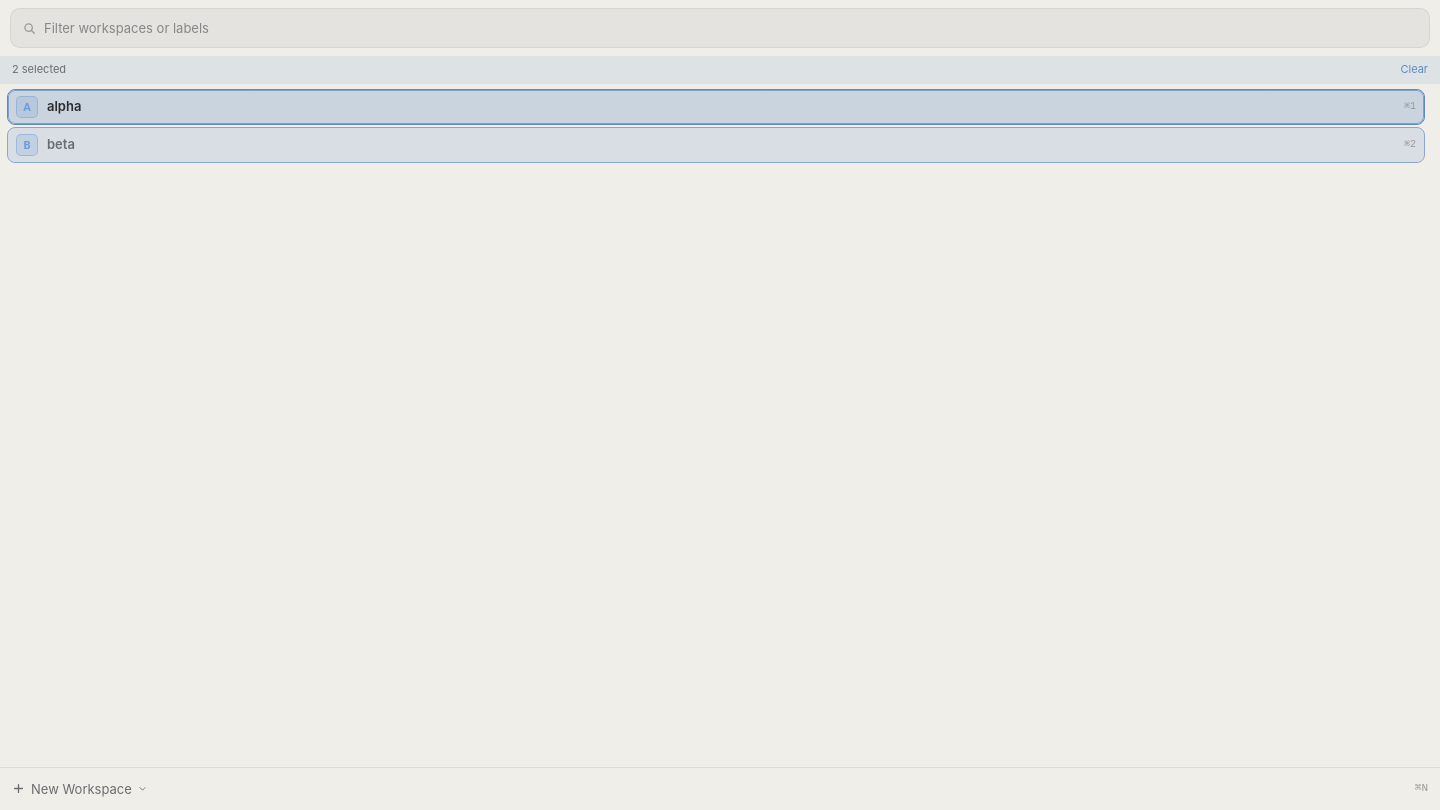
Scenario: bulk context menu › captions an empty bulk Labels submenu "No labels", never "preset"
Right-click the option with test id "workspace-row" showing "A alpha ⌘1" at point(64, 106), box [8,90,1424,124]
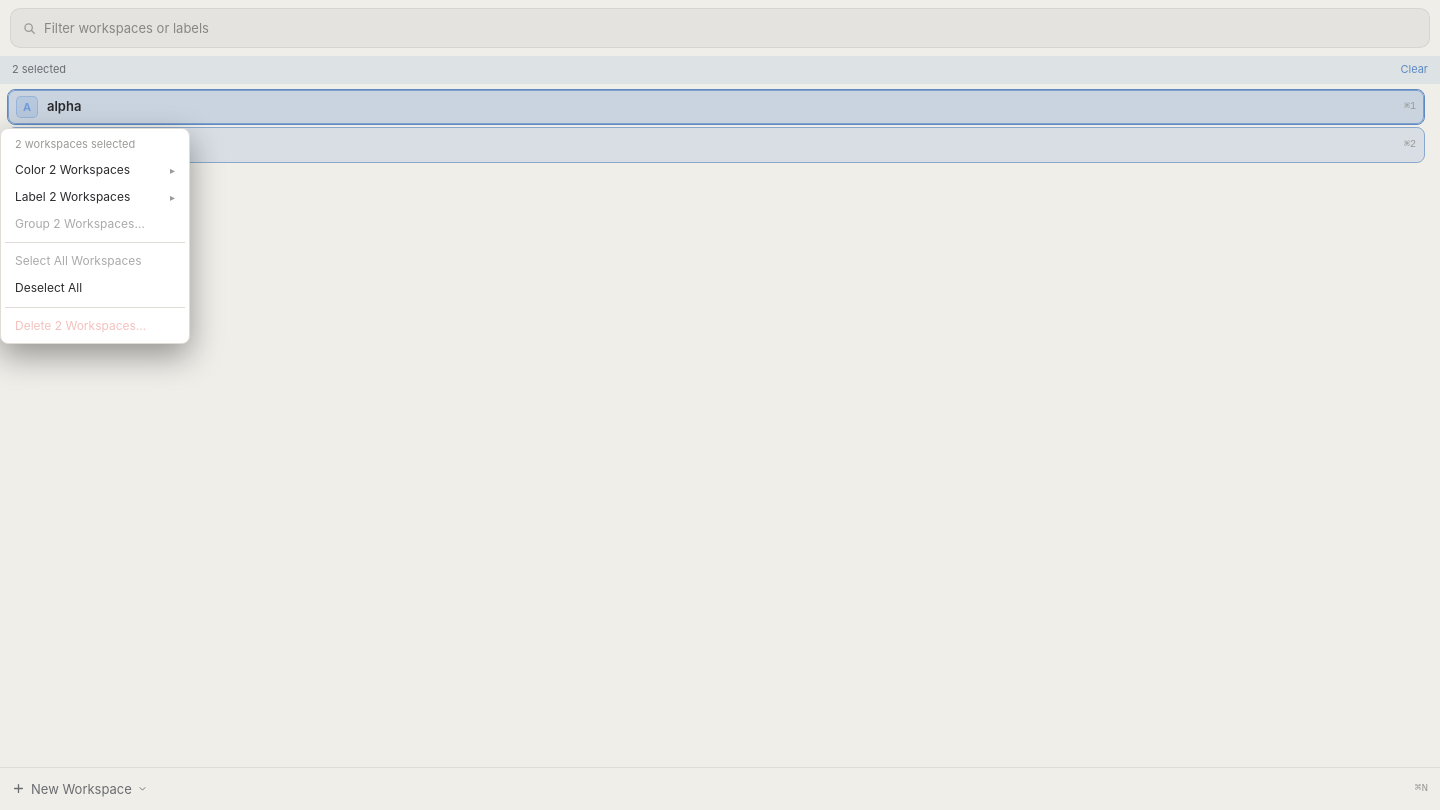
Hover over the text "Label 2 Workspaces" at point(73, 196), box [15,189,130,204]
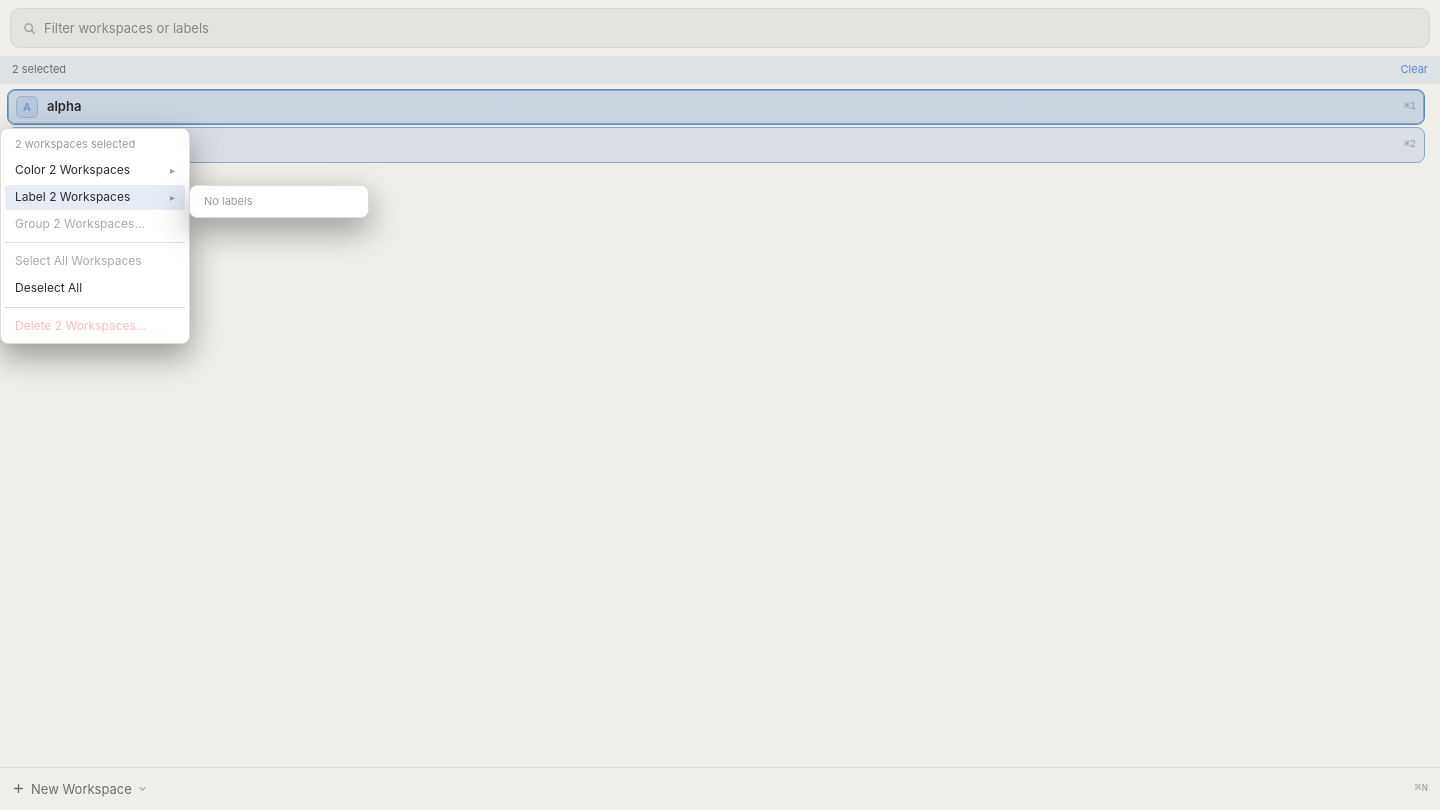
Result: the text "No labels" is shown at [204,194,252,208]
